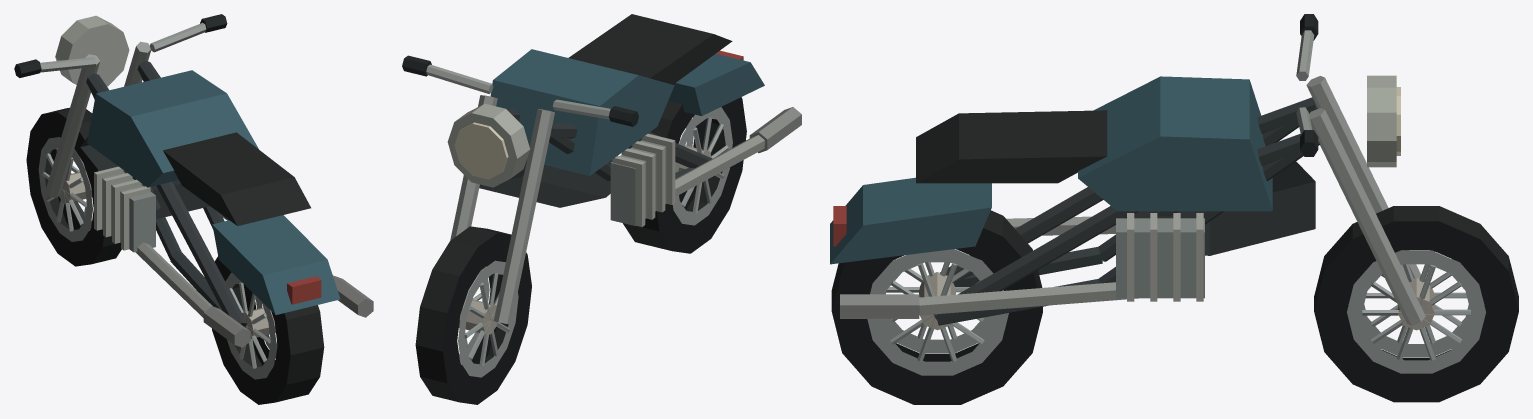
File: roadster.glb
3 renders of one model, left to right at view 1: azimuth 30°, elevation 25°; view 2: azimuth 150°, elevation 25°; view 3: azimuth 270°, elevation 25°, orthographic. The views are drawn at different scales.
Parts seen in each view (by area): view 1: proposition_roadster; view 2: proposition_roadster; view 3: proposition_roadster.
Part boxes in pixels (x1,y1,x2,y2): proposition_roadster: [14, 14, 373, 404]; proposition_roadster: [402, 14, 801, 404]; proposition_roadster: [830, 14, 1518, 404].
Bounding box in the file's own units: 0.92 × 1.06 × 2.08.
